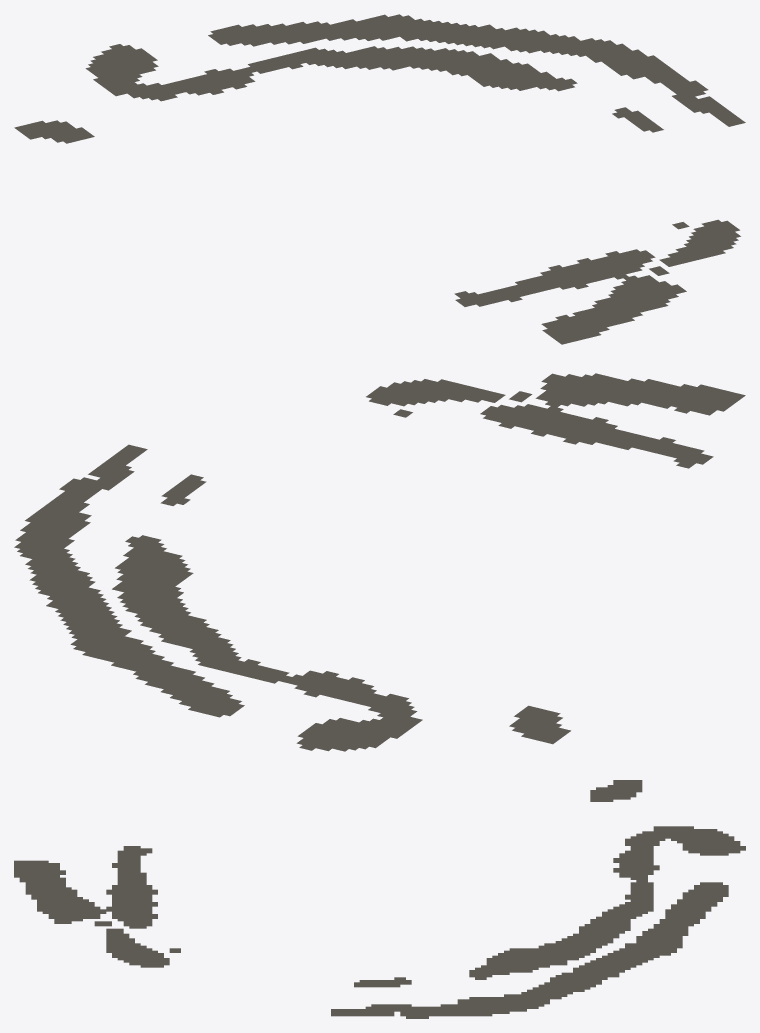
Rendered from Isl-atoll1-NoBuildArea.fbx.
The picture shows the model from 3 angles, top to bottom: view 1: azimuth 30°, elevation 25°; view 2: azimuth 150°, elevation 25°; view 3: azimuth 270°, elevation 25°; orthographic projection. The views are drawn at different scales.
Visible parts, largest first — view 1: Isl-atoll1-NoBuildArea; view 2: Isl-atoll1-NoBuildArea; view 3: Isl-atoll1-NoBuildArea.
Boxes of the visible parts, box(x1,y1,x2,y2) form: Isl-atoll1-NoBuildArea: box(14, 14, 745, 344); Isl-atoll1-NoBuildArea: box(14, 373, 745, 751); Isl-atoll1-NoBuildArea: box(14, 780, 745, 1018).
Bounding box in the file's own units: 98 × 0 × 127.
